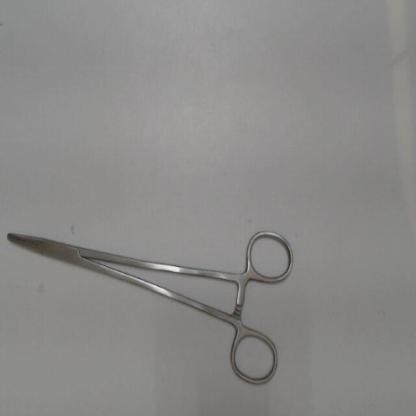8 Mayo Needle Holder: (2, 220, 298, 393)
